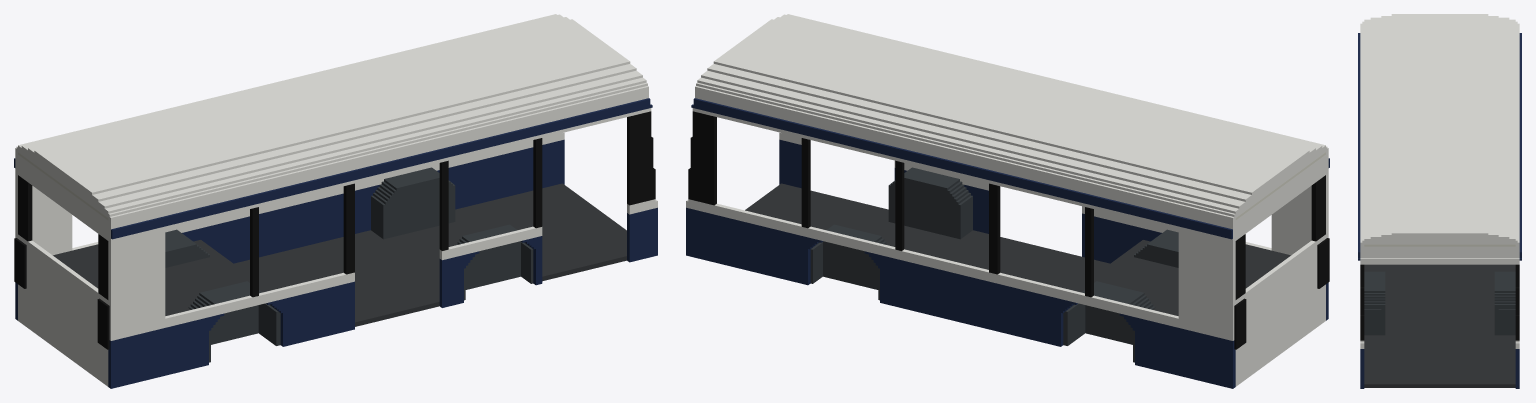
File: shuttle_bus_shell.glb
3 views of the same model, side by side, from view 1: azimuth 30°, elevation 25°; view 2: azimuth 150°, elevation 25°; view 3: azimuth 270°, elevation 25° (orthographic). The views are drawn at different scales.
Visible parts, largest first — view 1: body:compound; view 2: body:compound; view 3: body:compound.
Boxes of the visible parts, box(x1,y1,x2,y2) form: body:compound: box(14, 14, 657, 388); body:compound: box(686, 14, 1329, 388); body:compound: box(1358, 14, 1521, 388).
Bounding box in the file's own units: 7.88 × 2.5 × 2.44.
